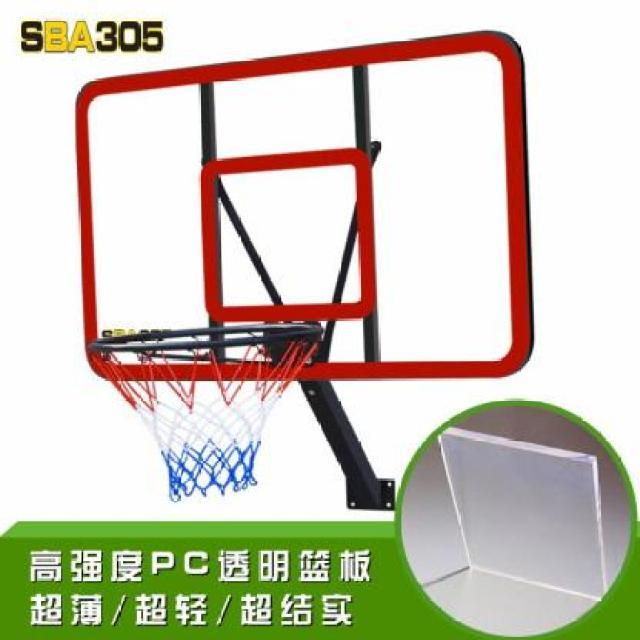rim: (90, 328, 324, 496)
